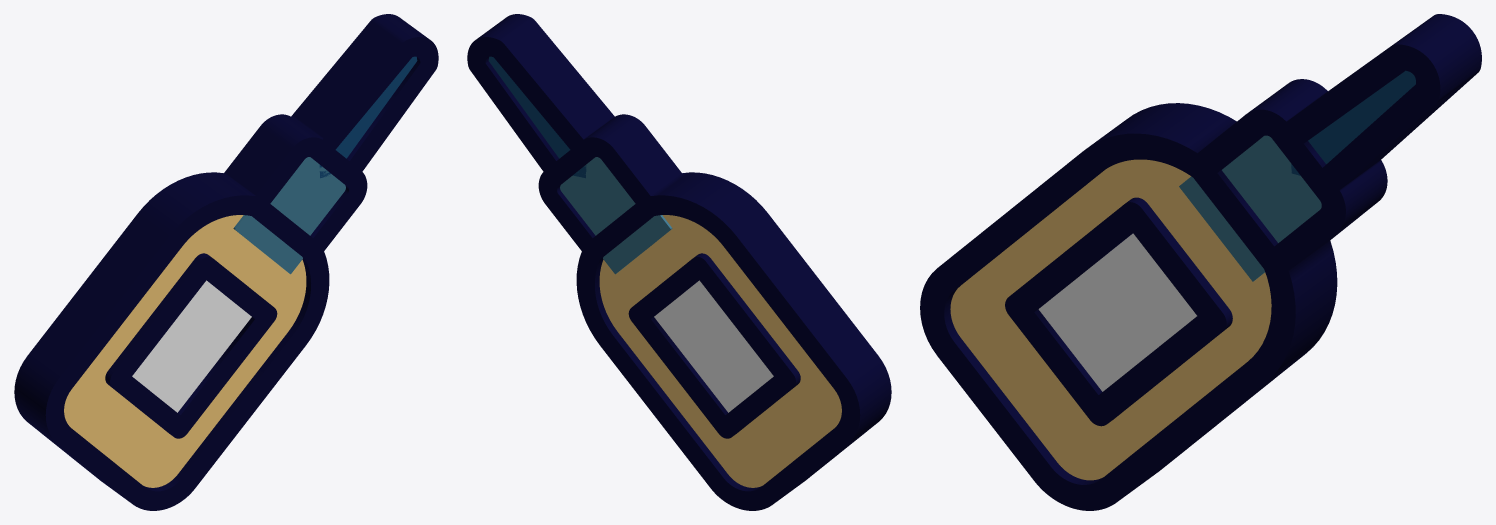
The model's file is Glue Plastic.fbx.
The picture shows the model from 3 angles, left to right: view 1: azimuth 30°, elevation 25°; view 2: azimuth 150°, elevation 25°; view 3: azimuth 330°, elevation 25°; orthographic projection. The views are drawn at different scales.
Visible parts, largest first — view 1: Curve.005, Curve.002, Curve.004, Curve.003, Curve.001, Curve; view 2: Curve.005, Curve.002, Curve.004, Curve.003, Curve.001, Curve; view 3: Curve.005, Curve.002, Curve.004, Curve.003, Curve.001, Curve.
Part boxes in pixels (x1,y1,x2,y2): Curve.005: (14,14,438,510); Curve.002: (64,215,306,487); Curve.004: (105,253,277,438); Curve.003: (132,280,251,412); Curve.001: (233,157,345,274); Curve: (319,56,417,178); Curve.005: (467,14,891,510); Curve.002: (599,215,841,487); Curve.004: (628,253,800,438); Curve.003: (654,280,773,412); Curve.001: (560,157,672,274); Curve: (488,56,586,178); Curve.005: (920,14,1481,510); Curve.002: (950,159,1271,480); Curve.004: (1005,197,1232,426); Curve.003: (1038,233,1196,391); Curve.001: (1179,135,1321,281); Curve: (1291,70,1415,175).
Size of the model in its own units: 145 by 144 by 20.01.
